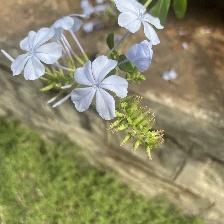chitrak: (73, 55, 130, 122), (12, 26, 61, 81), (115, 1, 161, 46)
